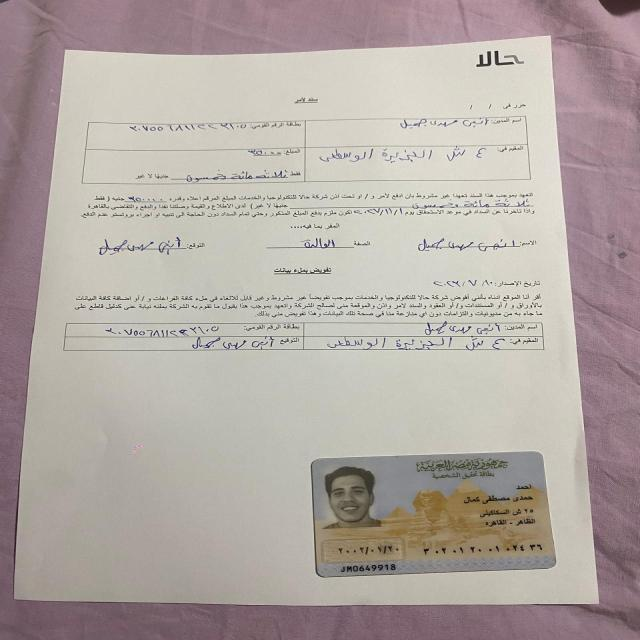ID-cards: (308, 449, 560, 579)
